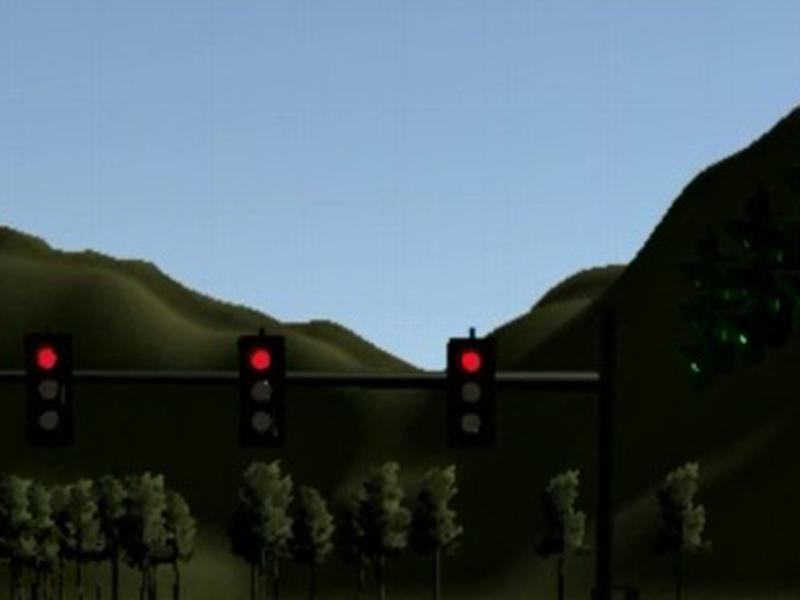Red: (238, 337, 288, 445), (448, 338, 494, 450), (25, 331, 71, 443)
